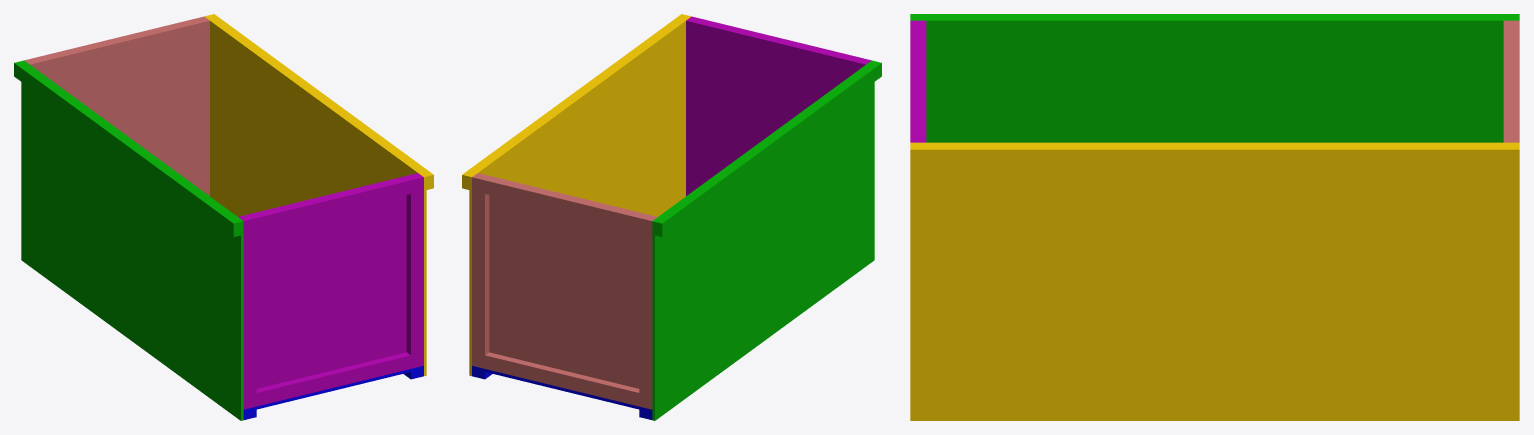
Rendered from result.glb.
3 views of the same model, side by side, from view 1: azimuth 30°, elevation 25°; view 2: azimuth 150°, elevation 25°; view 3: azimuth 270°, elevation 25° (orthographic). The views are drawn at different scales.
Parts seen in each view (by area): view 1: 6a3f8b77-5acd-4299-bfe5-efdba03534ec__Box_6, 523a933a-8da2-45a1-8fa7-b15748921d2d__Box_3, 84aa26c4-64e8-412e-856e-920dadc54232__undefined, f6f58859-6a7f-46c1-bf74-a2717181e80d__undefined, 4dec3352-5bba-484b-9175-1d5fe0ef2255__Box_7, 9ad3fe76-c7c3-4a24-86b8-03f5634750e3__undefined, 51782348-9605-4d3d-a0e2-f5c39e9aade4__undefined, bf349f83-05ce-41bd-a22f-7aac5e7cd323__Box_5, e3733d5c-c237-40fc-b6e2-634c671003da__Box_4, cc4501bd-6906-47bc-8473-e37bd93a1841__undefined, 273ff4bb-cfc8-4bea-b052-498e98d43bfb__undefined, baadce26-31b6-478b-ba3b-e601727d3e82__Box; view 2: 6a3f8b77-5acd-4299-bfe5-efdba03534ec__Box_6, f6f58859-6a7f-46c1-bf74-a2717181e80d__undefined, 84aa26c4-64e8-412e-856e-920dadc54232__undefined, 523a933a-8da2-45a1-8fa7-b15748921d2d__Box_3, 4dec3352-5bba-484b-9175-1d5fe0ef2255__Box_7, 6a165707-6aa3-4675-b25a-c94b9b69a5eb__undefined, 273ff4bb-cfc8-4bea-b052-498e98d43bfb__undefined, c630eed2-b1da-4589-bb17-656d0682e54a__undefined, 40323620-911f-45b4-af12-6a9b2a6e4649__undefined, cc4501bd-6906-47bc-8473-e37bd93a1841__undefined, 51782348-9605-4d3d-a0e2-f5c39e9aade4__undefined, baadce26-31b6-478b-ba3b-e601727d3e82__Box; view 3: 84aa26c4-64e8-412e-856e-920dadc54232__undefined, 6a3f8b77-5acd-4299-bfe5-efdba03534ec__Box_6, cc4501bd-6906-47bc-8473-e37bd93a1841__undefined, 4dec3352-5bba-484b-9175-1d5fe0ef2255__Box_7, 51782348-9605-4d3d-a0e2-f5c39e9aade4__undefined, 273ff4bb-cfc8-4bea-b052-498e98d43bfb__undefined, 523a933a-8da2-45a1-8fa7-b15748921d2d__Box_3, f6f58859-6a7f-46c1-bf74-a2717181e80d__undefined.
Part boxes in pixels (x1,y1,x2,y2): 6a3f8b77-5acd-4299-bfe5-efdba03534ec__Box_6: (21, 60, 243, 420); 523a933a-8da2-45a1-8fa7-b15748921d2d__Box_3: (238, 173, 419, 388); 84aa26c4-64e8-412e-856e-920dadc54232__undefined: (204, 16, 426, 376); f6f58859-6a7f-46c1-bf74-a2717181e80d__undefined: (28, 19, 209, 195); 4dec3352-5bba-484b-9175-1d5fe0ef2255__Box_7: (14, 61, 240, 236); 9ad3fe76-c7c3-4a24-86b8-03f5634750e3__undefined: (406, 174, 423, 368); 51782348-9605-4d3d-a0e2-f5c39e9aade4__undefined: (253, 177, 410, 231); bf349f83-05ce-41bd-a22f-7aac5e7cd323__Box_5: (256, 352, 410, 406); e3733d5c-c237-40fc-b6e2-634c671003da__Box_4: (240, 215, 256, 409); cc4501bd-6906-47bc-8473-e37bd93a1841__undefined: (207, 14, 433, 189); 273ff4bb-cfc8-4bea-b052-498e98d43bfb__undefined: (37, 19, 194, 60); baadce26-31b6-478b-ba3b-e601727d3e82__Box: (243, 366, 423, 412); 6a3f8b77-5acd-4299-bfe5-efdba03534ec__Box_6: (652, 60, 874, 420); f6f58859-6a7f-46c1-bf74-a2717181e80d__undefined: (476, 173, 657, 388); 84aa26c4-64e8-412e-856e-920dadc54232__undefined: (469, 16, 691, 376); 523a933a-8da2-45a1-8fa7-b15748921d2d__Box_3: (686, 19, 867, 195); 4dec3352-5bba-484b-9175-1d5fe0ef2255__Box_7: (655, 61, 881, 236); 6a165707-6aa3-4675-b25a-c94b9b69a5eb__undefined: (472, 174, 489, 368); 273ff4bb-cfc8-4bea-b052-498e98d43bfb__undefined: (485, 177, 642, 231); c630eed2-b1da-4589-bb17-656d0682e54a__undefined: (485, 352, 639, 406); 40323620-911f-45b4-af12-6a9b2a6e4649__undefined: (639, 215, 655, 409); cc4501bd-6906-47bc-8473-e37bd93a1841__undefined: (462, 14, 688, 189); 51782348-9605-4d3d-a0e2-f5c39e9aade4__undefined: (701, 19, 858, 60); baadce26-31b6-478b-ba3b-e601727d3e82__Box: (472, 366, 652, 412); 84aa26c4-64e8-412e-856e-920dadc54232__undefined: (910, 142, 1519, 420); 6a3f8b77-5acd-4299-bfe5-efdba03534ec__Box_6: (910, 19, 1519, 142); cc4501bd-6906-47bc-8473-e37bd93a1841__undefined: (910, 144, 1519, 168); 4dec3352-5bba-484b-9175-1d5fe0ef2255__Box_7: (910, 14, 1519, 18); 51782348-9605-4d3d-a0e2-f5c39e9aade4__undefined: (910, 29, 921, 133); 273ff4bb-cfc8-4bea-b052-498e98d43bfb__undefined: (1508, 29, 1519, 133); 523a933a-8da2-45a1-8fa7-b15748921d2d__Box_3: (921, 20, 926, 142); f6f58859-6a7f-46c1-bf74-a2717181e80d__undefined: (1503, 20, 1508, 142).
Bounding box in the file's own units: 556 × 528 × 1056.
